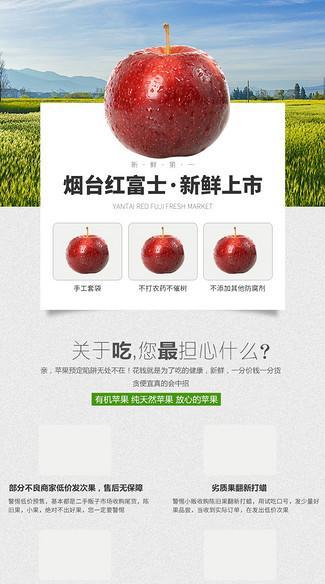apple: (100, 36, 228, 157), (213, 233, 257, 275), (64, 232, 109, 273), (141, 233, 184, 275)
